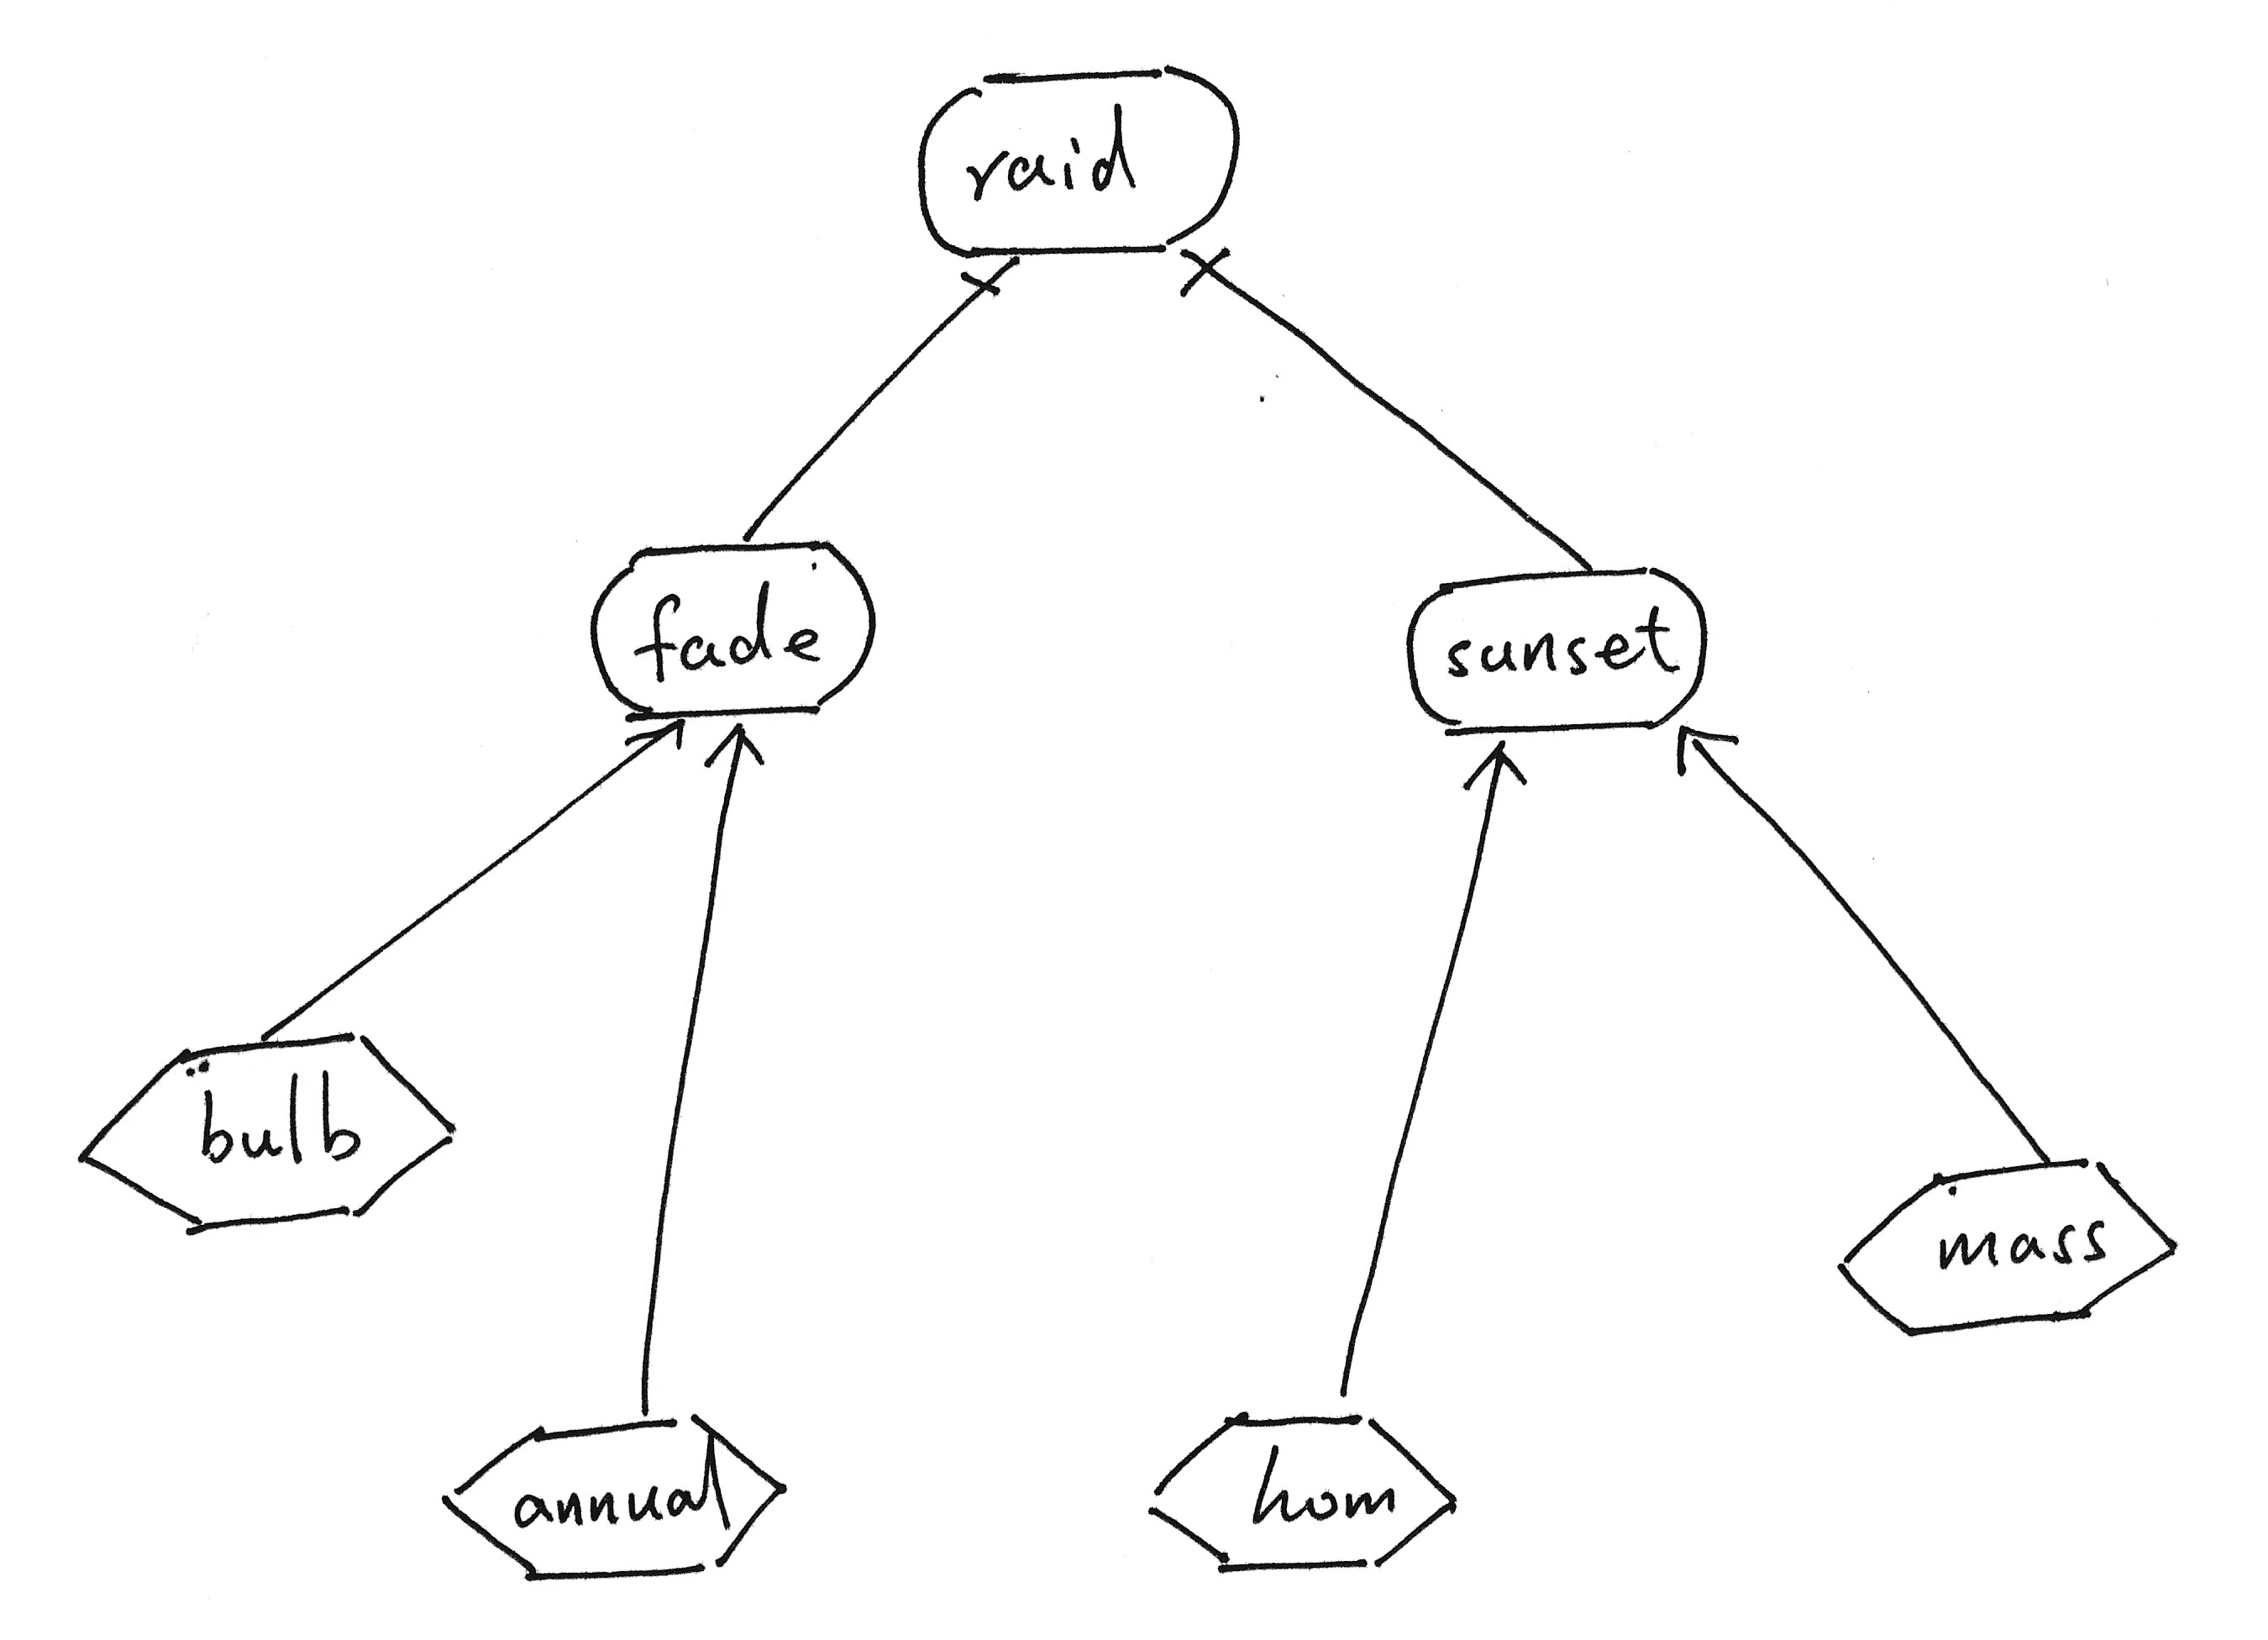and: (1169, 245, 1255, 310), (946, 259, 1027, 315)
arrow: (1446, 736, 1537, 819), (1664, 722, 1752, 796), (697, 715, 784, 784), (615, 717, 696, 782)
goal: (905, 44, 1259, 264), (581, 527, 895, 728), (1393, 555, 1715, 747)
task: (51, 1020, 477, 1252), (1828, 1143, 2208, 1356), (423, 1393, 805, 1592), (1132, 1392, 1477, 1591)
